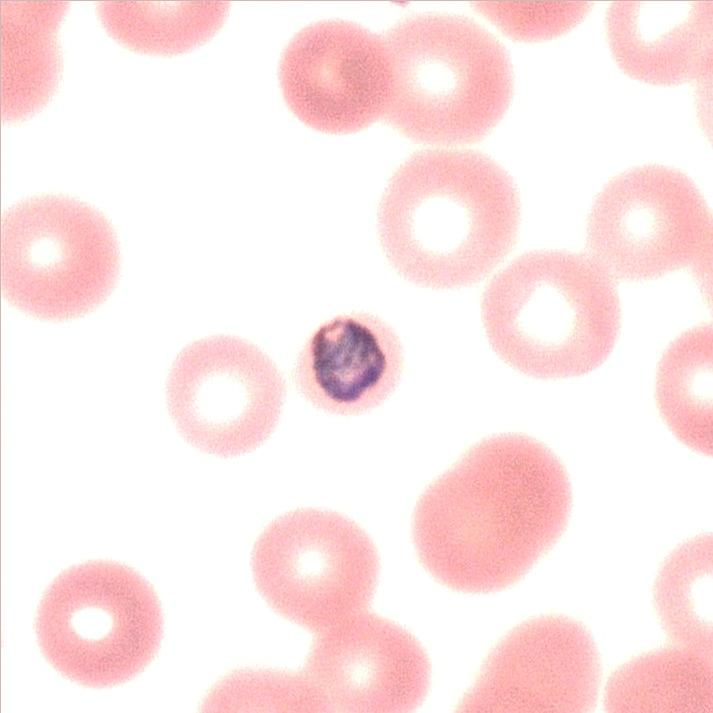Infected: (294, 309, 399, 419)
Uninfected: (410, 431, 567, 592), (374, 143, 515, 290), (372, 15, 519, 142), (482, 249, 620, 380), (32, 559, 160, 687), (248, 507, 379, 629), (0, 204, 128, 325), (164, 335, 284, 460), (586, 163, 703, 284), (306, 607, 431, 713), (276, 21, 392, 131)
